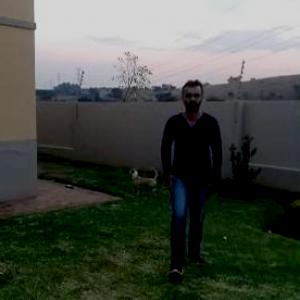follow: (161, 81, 215, 249)
